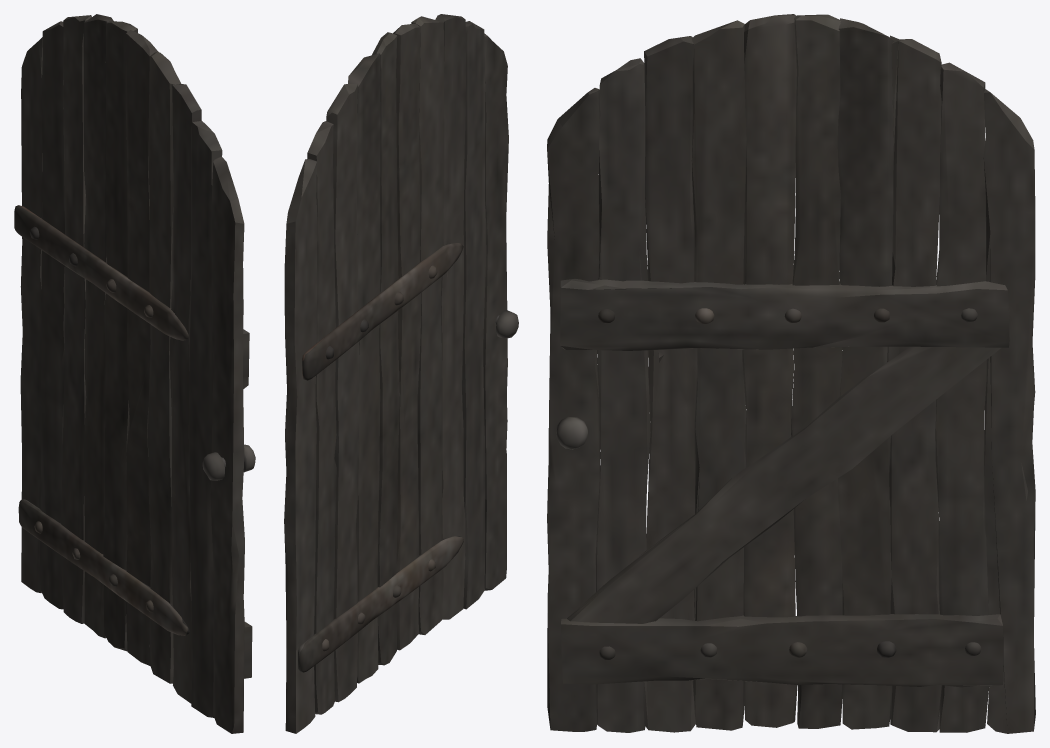
File: Wood_Door_02_Test.fbx
3 views of the same model, side by side, from view 1: azimuth 30°, elevation 25°; view 2: azimuth 150°, elevation 25°; view 3: azimuth 270°, elevation 25° (orthographic). The views are drawn at different scales.
Parts seen in each view (by area): view 1: Group15821.004, Group15821.001; view 2: Group15821.004, Group15821.001; view 3: Group15821.004, Group15821.001.
Part boxes in pixels (x1=…): Group15821.004: x1=20, y1=14, x2=252, y2=733; Group15821.001: x1=14, y1=205, x2=255, y2=635; Group15821.004: x1=284, y1=14, x2=508, y2=733; Group15821.001: x1=298, y1=243, x2=518, y2=672; Group15821.004: x1=547, y1=14, x2=1035, y2=733; Group15821.001: x1=556, y1=308, x2=981, y2=659.
Size of the model in its own units: 18.51 by 235 by 145.
